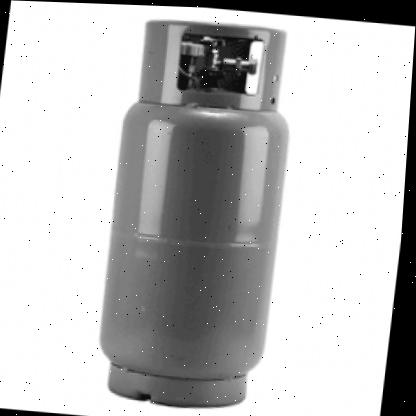gas-tank: (75, 7, 323, 415)
